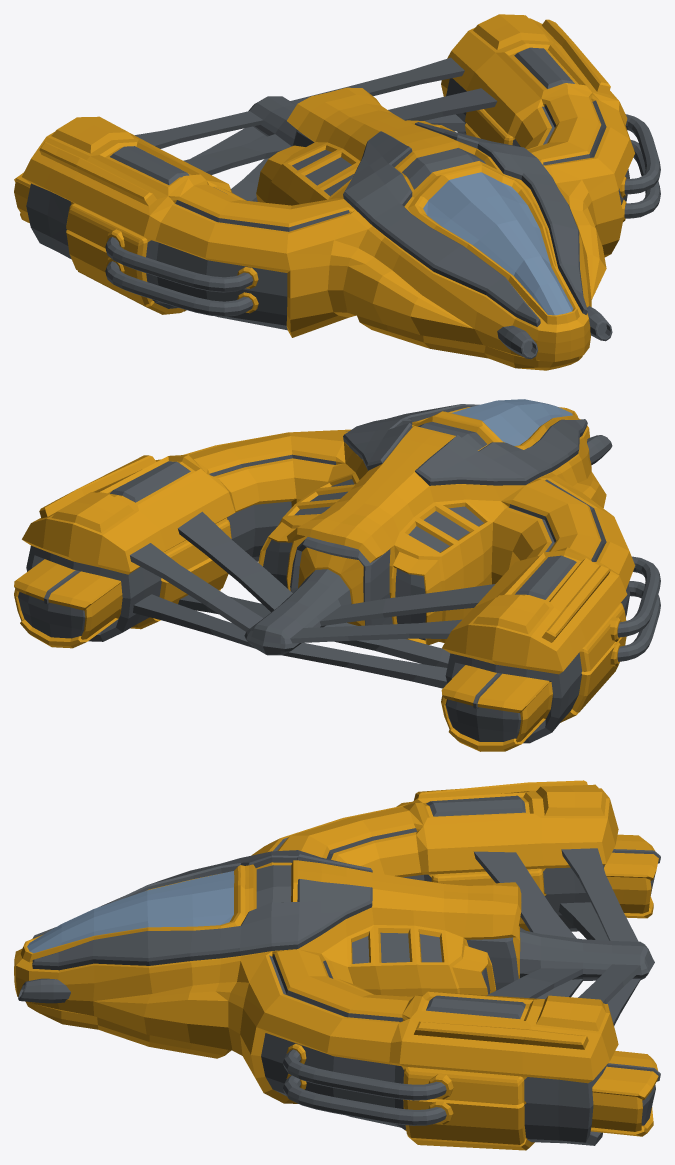
The model's file is Fighter_08_Yellow.fbx.
3 views of the same model, one above another, from view 1: azimuth 30°, elevation 25°; view 2: azimuth 150°, elevation 25°; view 3: azimuth 270°, elevation 25° (orthographic). The views are drawn at different scales.
Parts seen in each view (by area): view 1: Fighter_08_Yellow; view 2: Fighter_08_Yellow; view 3: Fighter_08_Yellow.
Part boxes in pixels (left/top/right/bottom): Fighter_08_Yellow: left=14, top=14, right=660, bottom=370; Fighter_08_Yellow: left=14, top=399, right=660, bottom=751; Fighter_08_Yellow: left=14, top=780, right=660, bottom=1150.
Size of the model in its own units: 1805 by 539 by 1797.
Materials: 3 (3 with a texture image).
